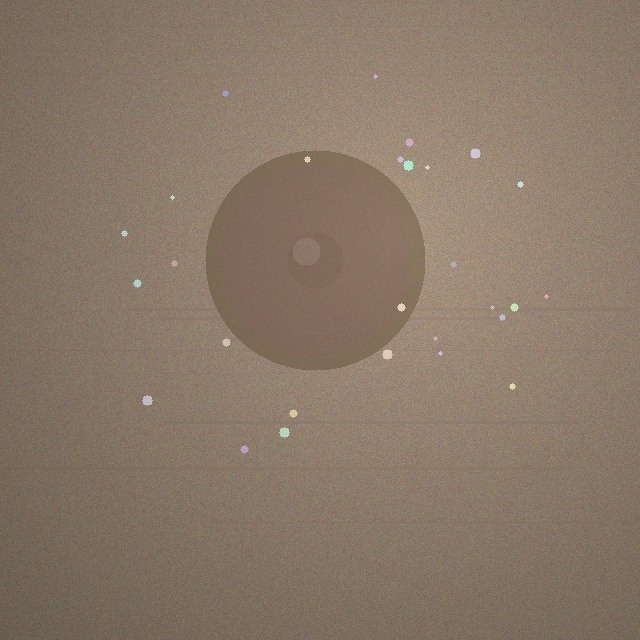overburn: (205, 150, 425, 370)
